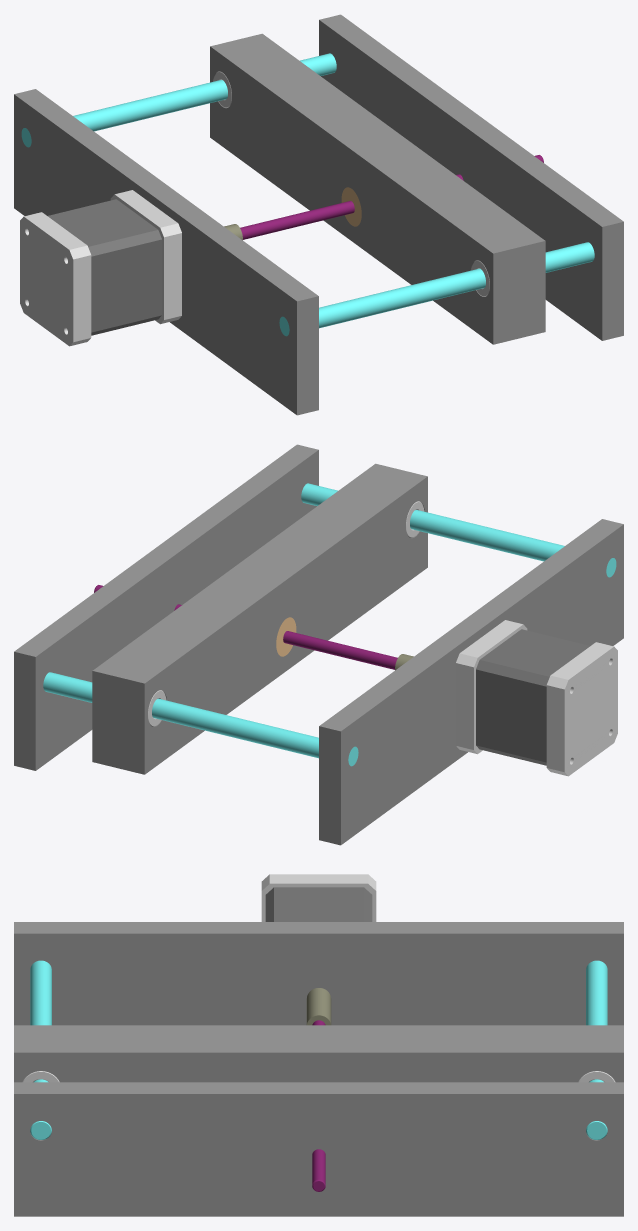
The picture shows the model from 3 angles, top to bottom: view 1: azimuth 30°, elevation 25°; view 2: azimuth 150°, elevation 25°; view 3: azimuth 270°, elevation 25°; orthographic projection. The views are drawn at different scales.
Parts seen in each view (by area): view 1: out-carriage-block, out-drive_end-block, out-idle_end-block, out-drive-stepper-stator, out-drive-stepper-botcap, out-rails-rail_0001, out-rails-rail_0000, out-drive-stepper-topcap, out-drive-thread; view 2: out-carriage-block, out-drive_end-block, out-idle_end-block, out-drive-stepper-stator, out-drive-stepper-botcap, out-rails-rail_0000, out-rails-rail_0001, out-drive-stepper-topcap, out-drive-thread; view 3: out-idle_end-block, out-drive_end-block, out-carriage-block, out-drive-stepper-stator, out-drive-stepper-botcap, out-rails-rail_0000, out-rails-rail_0001, out-drive-coupling, out-drive-thread.
Part boxes in pixels (x1,y1,x2,y2): out-carriage-block: [210, 33, 545, 344]; out-drive_end-block: [14, 89, 318, 415]; out-idle_end-block: [319, 14, 623, 340]; out-drive-stepper-stator: [47, 199, 161, 335]; out-drive-stepper-botcap: [20, 212, 91, 346]; out-rails-rail_0001: [279, 242, 594, 336]; out-rails-rail_0000: [21, 53, 336, 147]; out-drive-stepper-topcap: [110, 190, 181, 324]; out-drive-thread: [240, 155, 543, 239]; out-carriage-block: [92, 463, 427, 774]; out-drive_end-block: [319, 519, 623, 845]; out-idle_end-block: [14, 444, 318, 770]; out-drive-stepper-stator: [476, 629, 590, 765]; out-drive-stepper-botcap: [546, 642, 617, 776]; out-rails-rail_0000: [43, 672, 358, 766]; out-rails-rail_0001: [301, 483, 616, 577]; out-drive-stepper-topcap: [456, 620, 527, 754]; out-drive-thread: [94, 585, 397, 669]; out-idle_end-block: [14, 1082, 623, 1216]; out-drive_end-block: [14, 922, 623, 1025]; out-carriage-block: [14, 1025, 623, 1082]; out-drive-stepper-stator: [265, 887, 372, 921]; out-drive-stepper-botcap: [261, 874, 376, 921]; out-rails-rail_0000: [586, 960, 607, 1139]; out-rails-rail_0001: [30, 960, 51, 1139]; out-drive-coupling: [306, 988, 331, 1025]; out-drive-thread: [312, 1020, 325, 1191].
Bounding box in the file's own units: 0.227 × 0.05 × 0.225.
